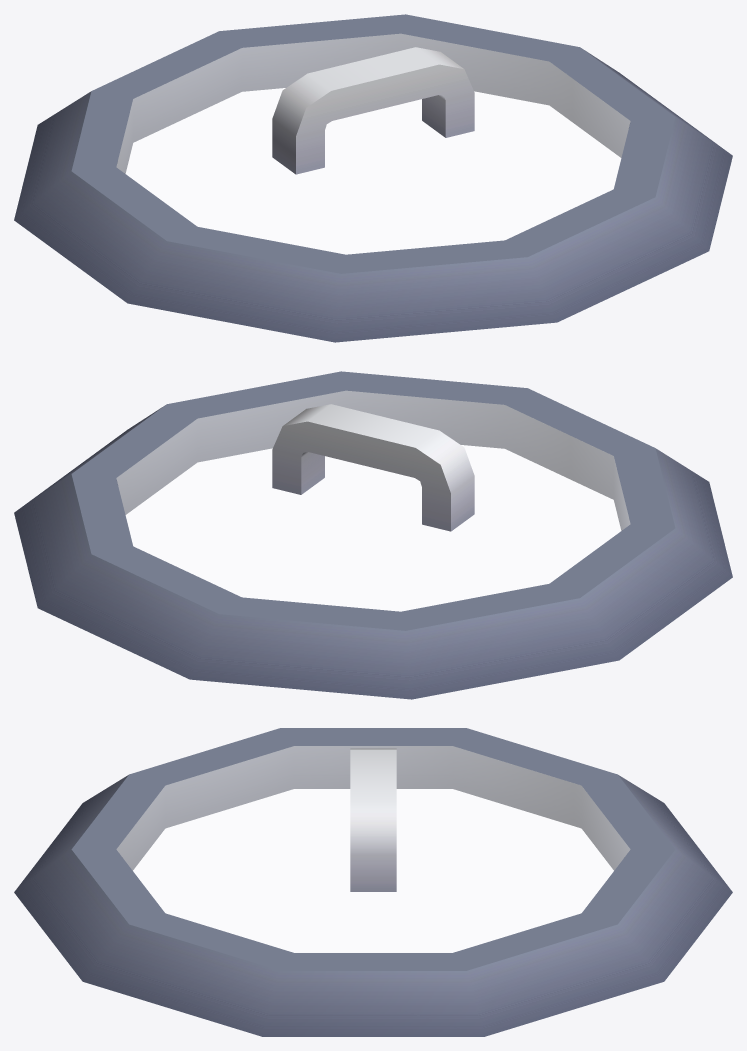
The model's file is frying-pan-lid.glb.
3 renders of one model, top to bottom at view 1: azimuth 30°, elevation 25°; view 2: azimuth 150°, elevation 25°; view 3: azimuth 270°, elevation 25°, orthographic. The views are drawn at different scales.
Visible parts, largest first — view 1: frying-pan-lid, (%ignore); view 2: frying-pan-lid, (%ignore); view 3: frying-pan-lid, (%ignore).
Boxes of the visible parts, x1,y1,x2,y2 form: frying-pan-lid: (14, 14, 732, 342); (%ignore): (116, 33, 630, 254); frying-pan-lid: (14, 371, 732, 699); (%ignore): (116, 390, 630, 611); frying-pan-lid: (14, 728, 732, 1036); (%ignore): (116, 746, 630, 952).
Size of the model in its own units: 0.5767 by 0.1084 by 0.6064.
2 materials, 1 textured.
